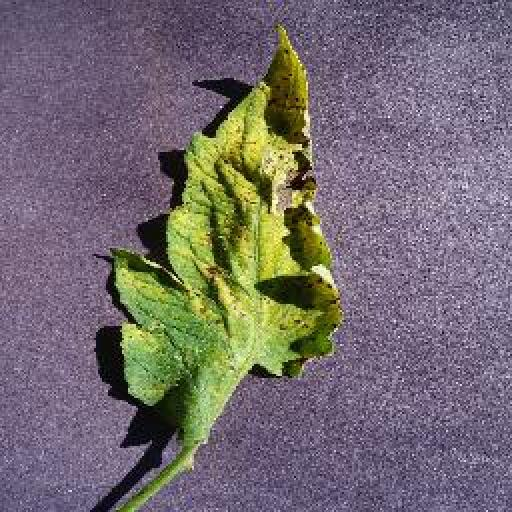Septoria: (111, 21, 340, 451)
